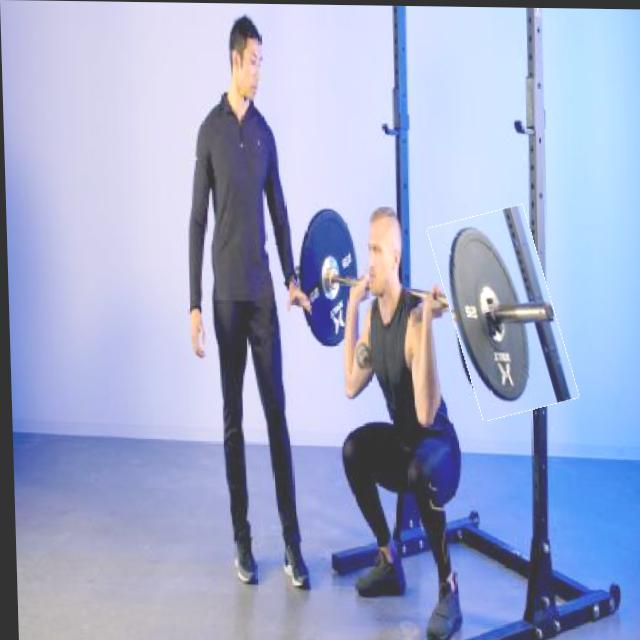barbell: (438, 207, 567, 417)
